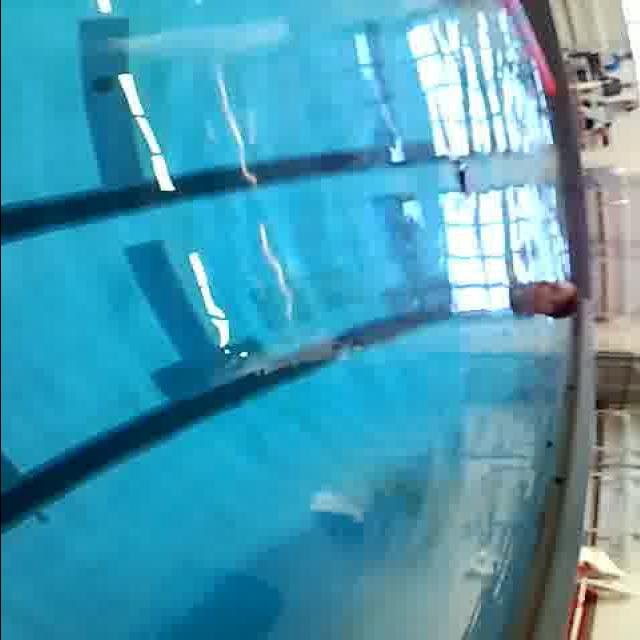CamMount: (448, 153, 478, 205)
